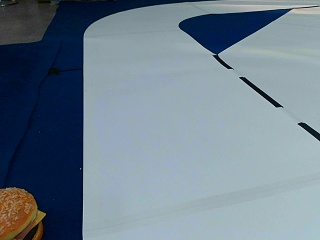burger: (0, 184, 45, 239)
